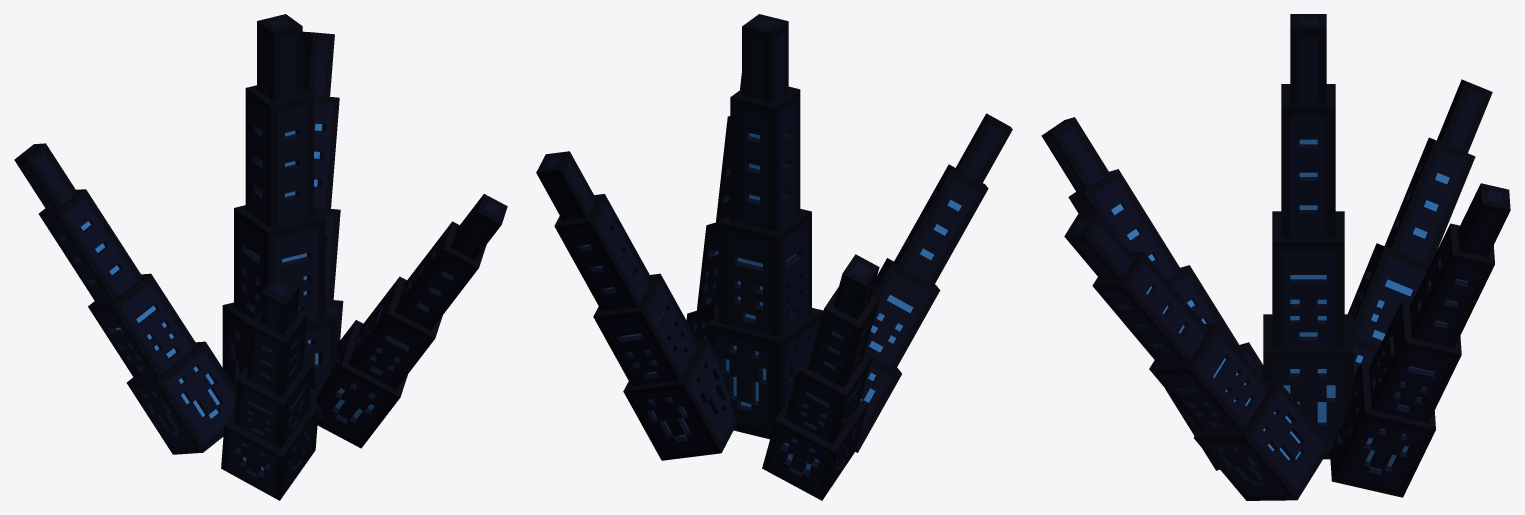
The model's file is Blue Guardian Spikes.fbx.
3 views of the same model, side by side, from view 1: azimuth 30°, elevation 25°; view 2: azimuth 150°, elevation 25°; view 3: azimuth 270°, elevation 25° (orthographic). The views are drawn at different scales.
Parts seen in each view (by area): view 1: Blue Guardian Spike 1, Blue Guardian Spike 5, Blue Guardian Spike 4, Blue Guardian Spike 3, Blue Guardian Spike 2; view 2: Blue Guardian Spike 1, Blue Guardian Spike 2, Blue Guardian Spike 5, Blue Guardian Spike 3, Blue Guardian Spike 4; view 3: Blue Guardian Spike 1, Blue Guardian Spike 4, Blue Guardian Spike 2, Blue Guardian Spike 5, Blue Guardian Spike 3.
Boxes of the visible parts, bbox=[...] form: Blue Guardian Spike 1: bbox=[222, 14, 336, 420]; Blue Guardian Spike 5: bbox=[14, 143, 236, 454]; Blue Guardian Spike 4: bbox=[315, 194, 507, 448]; Blue Guardian Spike 3: bbox=[221, 272, 318, 500]; Blue Guardian Spike 2: bbox=[302, 31, 343, 343]; Blue Guardian Spike 1: bbox=[707, 14, 823, 439]; Blue Guardian Spike 2: bbox=[536, 151, 736, 460]; Blue Guardian Spike 5: bbox=[762, 254, 879, 500]; Blue Guardian Spike 3: bbox=[855, 113, 1012, 452]; Blue Guardian Spike 4: bbox=[686, 73, 741, 338]; Blue Guardian Spike 1: bbox=[1263, 14, 1353, 459]; Blue Guardian Spike 4: bbox=[1064, 214, 1331, 500]; Blue Guardian Spike 2: bbox=[1330, 183, 1510, 497]; Blue Guardian Spike 5: bbox=[1348, 79, 1492, 376]; Blue Guardian Spike 3: bbox=[1041, 117, 1263, 470].
Size of the model in its own units: 1.34 by 1.58 by 1.76.
Materials: 1 (1 with a texture image).
